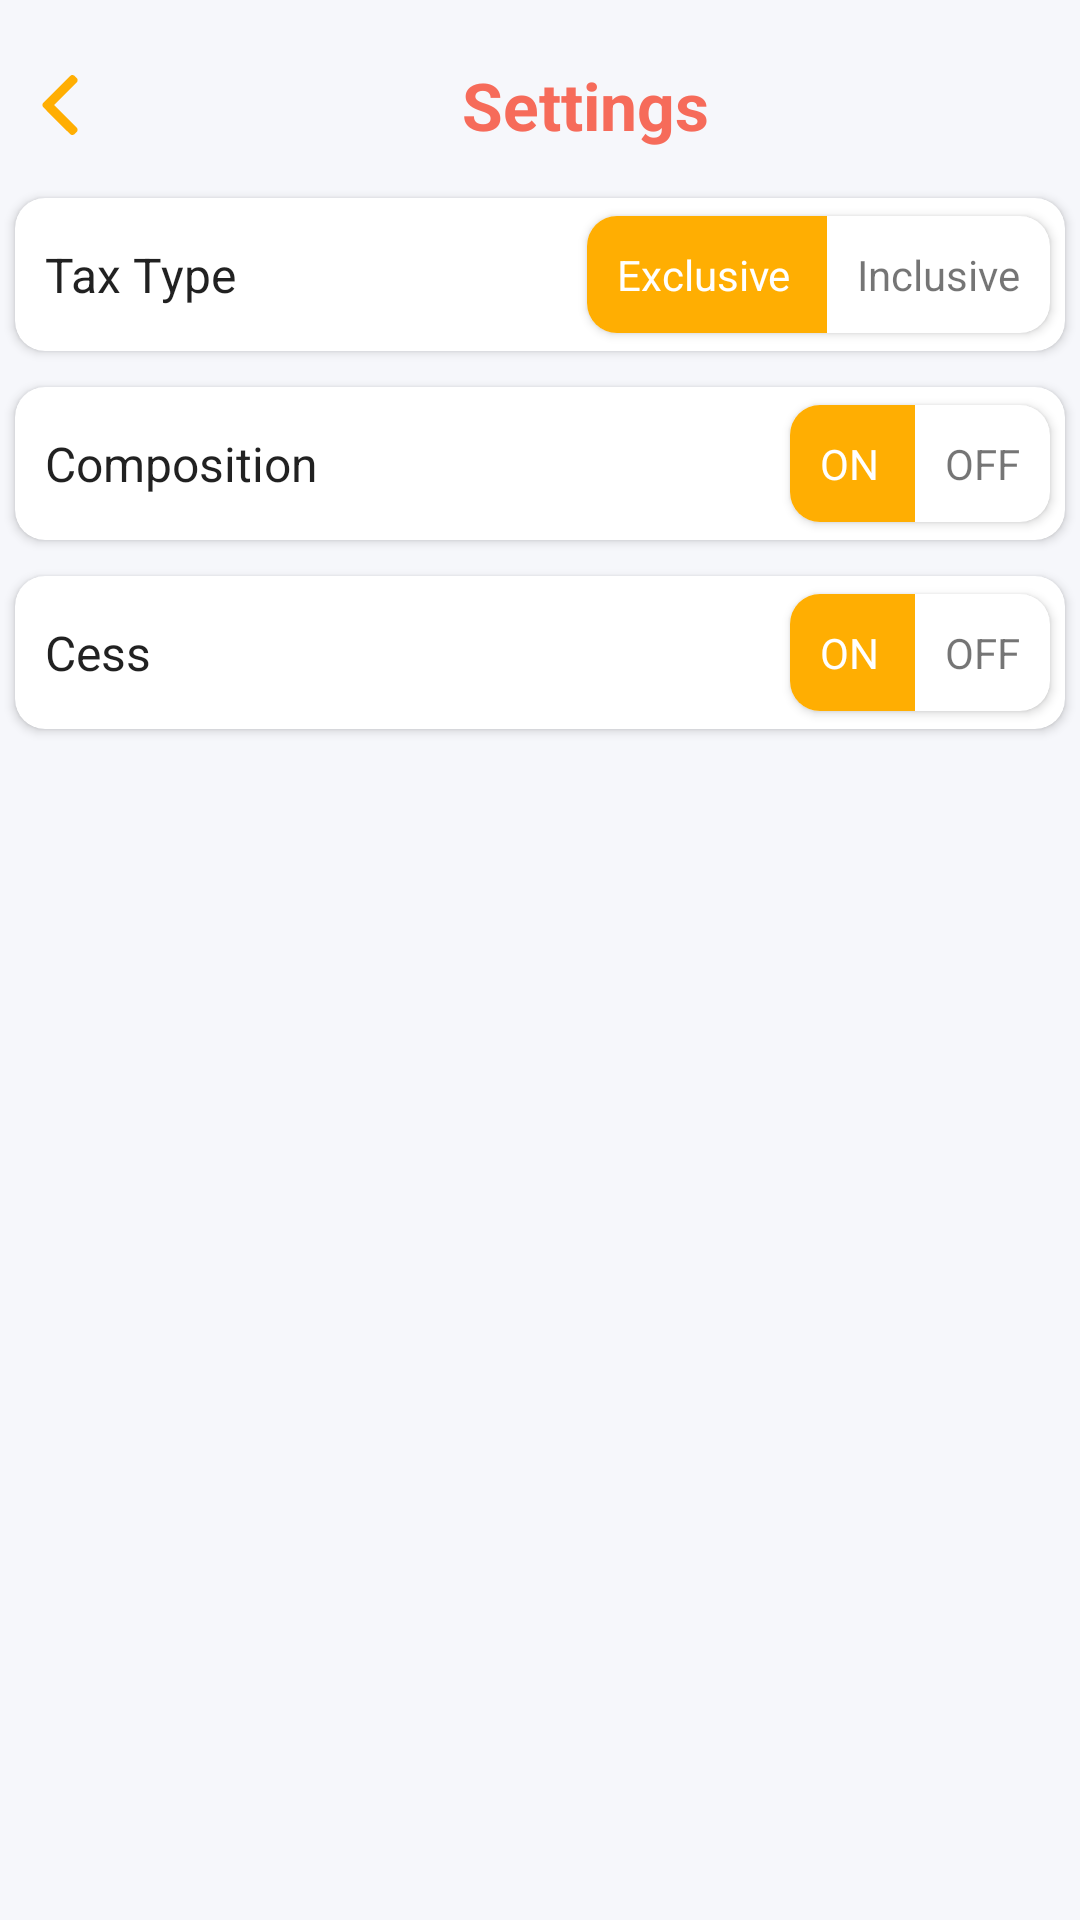

Icons on this 1080*1920 Android screen, each with the point to tap as point (x, y):
left arrow: point (60, 105)
